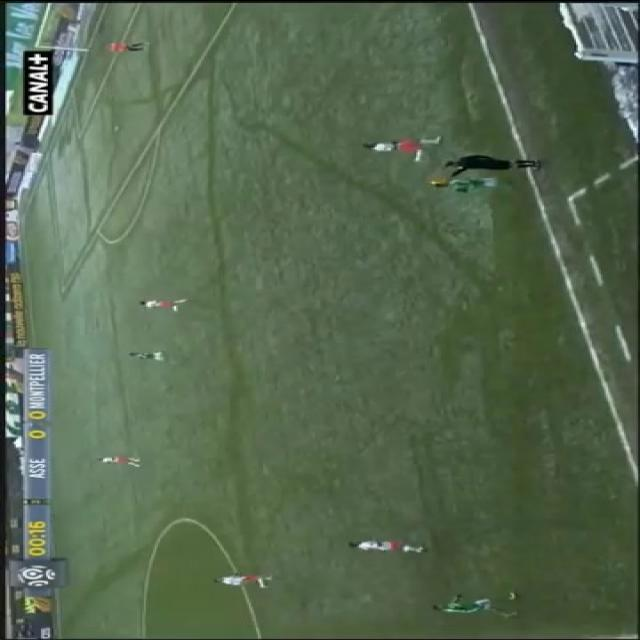goalkeeper: (82, 33, 172, 57)
player: (370, 582, 556, 624), (192, 550, 299, 599), (336, 524, 439, 569), (349, 132, 469, 158), (72, 443, 160, 473), (402, 171, 530, 190), (113, 291, 197, 315), (108, 338, 177, 362)
referee: (438, 146, 548, 180)
